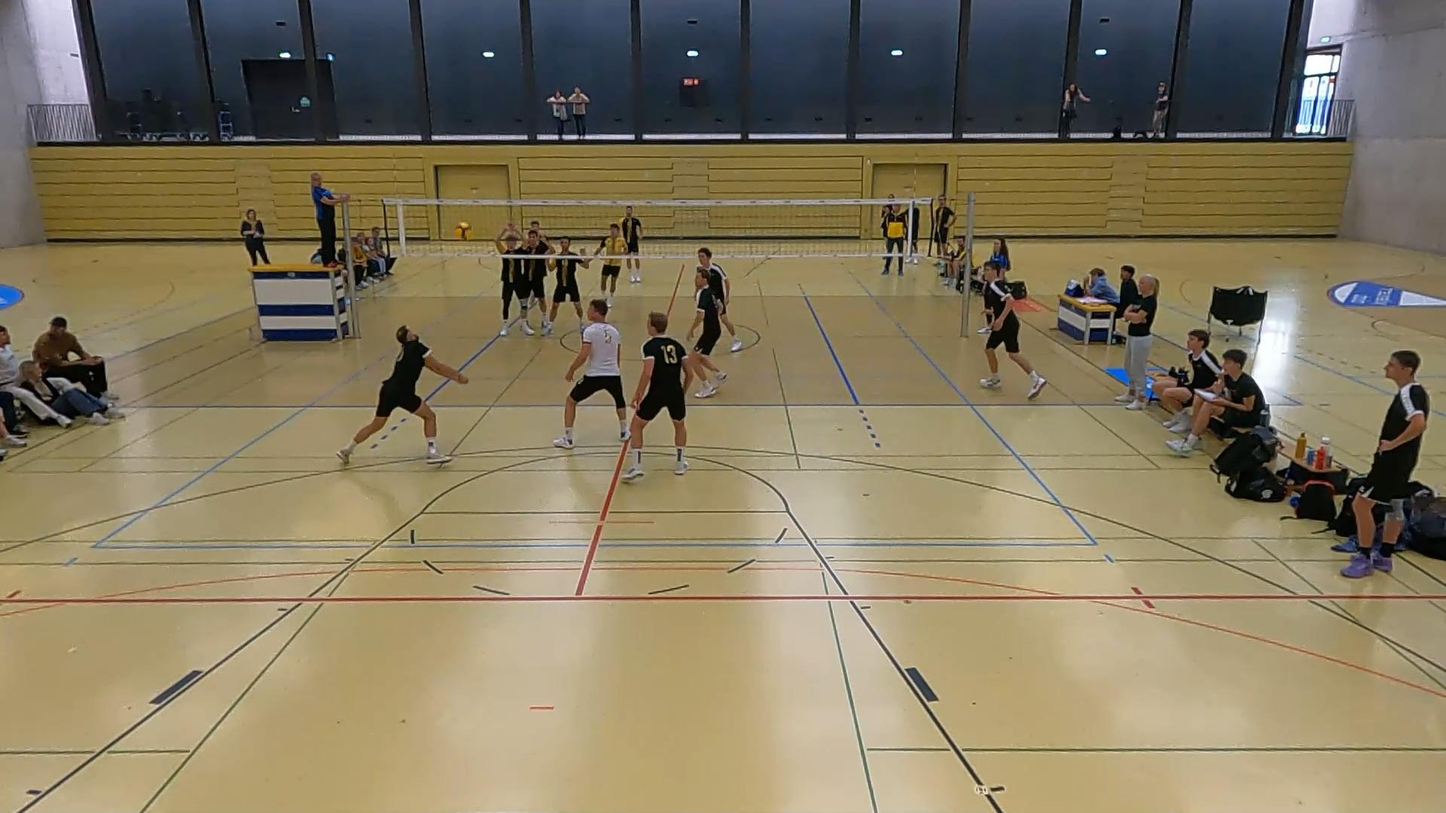Player: (621, 312, 692, 480), (554, 299, 630, 448), (980, 262, 1047, 398), (686, 267, 726, 397), (697, 248, 742, 352), (494, 223, 534, 335), (544, 237, 585, 334), (520, 229, 552, 334), (593, 223, 627, 305), (619, 206, 641, 282), (529, 219, 549, 242)
Receive: (333, 318, 474, 465)
ball: (452, 216, 480, 245)
